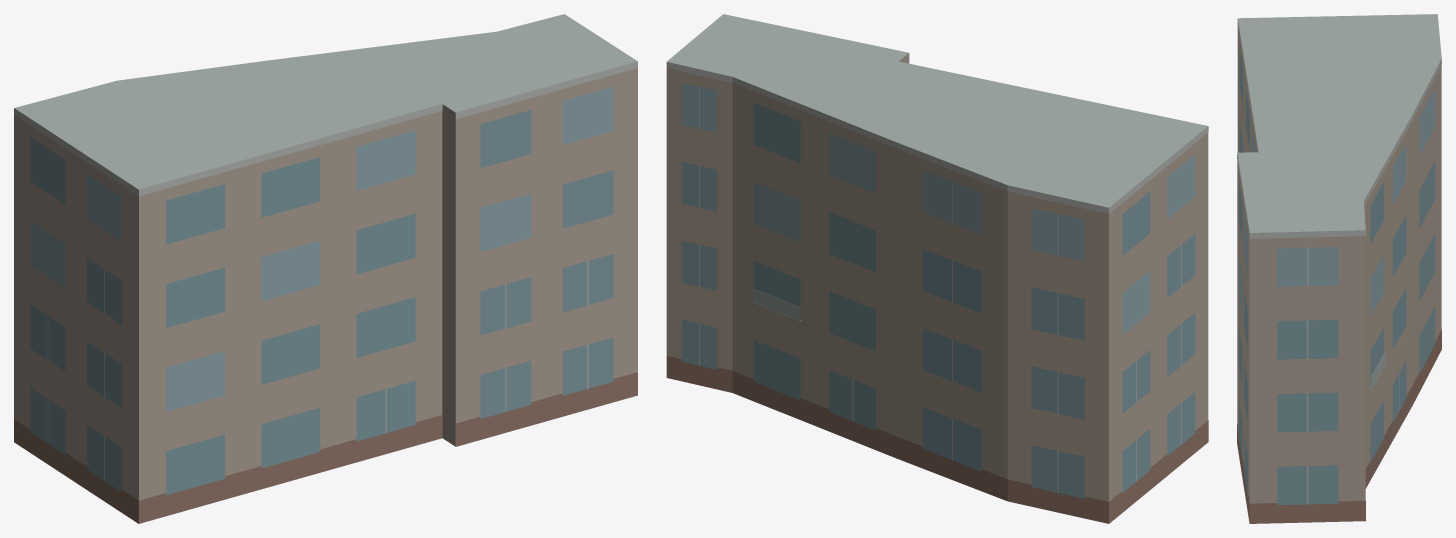
Rendered from survey-upis-33042120.glb.
3 views of the same model, side by side, from view 1: azimuth 30°, elevation 25°; view 2: azimuth 150°, elevation 25°; view 3: azimuth 270°, elevation 25° (orthographic). The views are drawn at different scales.
Visible parts, largest first — view 1: survey-upis-33042120.tmp; view 2: survey-upis-33042120.tmp; view 3: survey-upis-33042120.tmp.
Boxes of the visible parts, x1,y1,x2,y2 form: survey-upis-33042120.tmp: (14, 14, 637, 523); survey-upis-33042120.tmp: (666, 14, 1208, 523); survey-upis-33042120.tmp: (1237, 14, 1441, 523).
Size of the model in its own units: 19.71 by 12.2 by 7.79.
